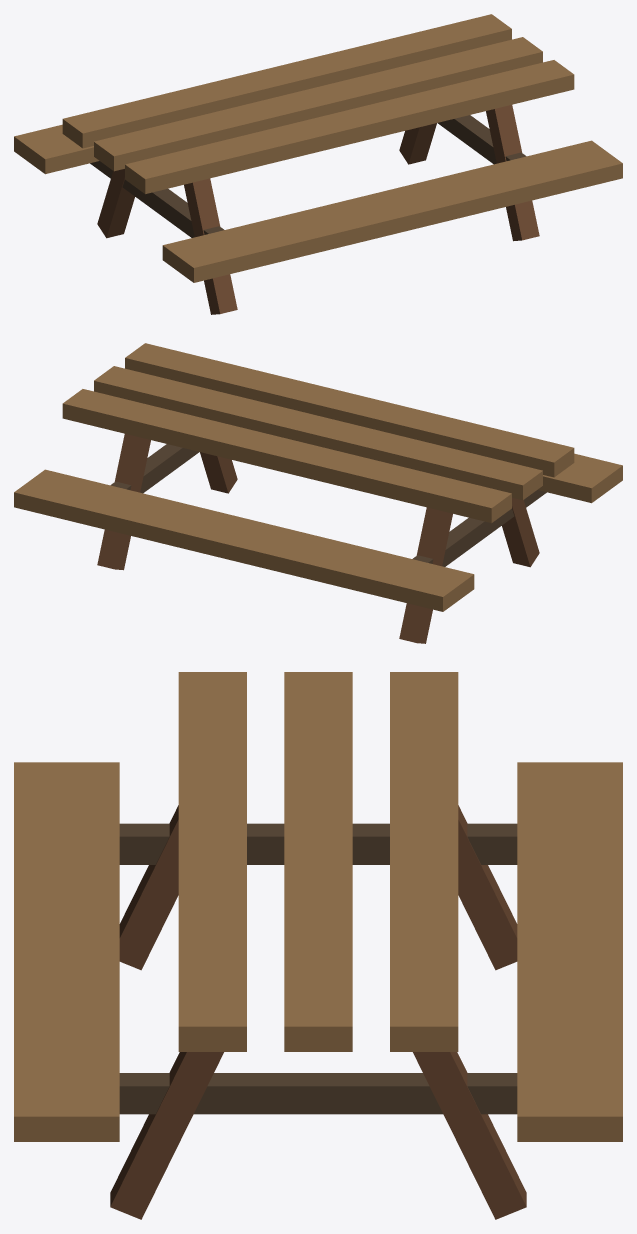
File: Prop_Daily_PicnicTable_001_LOD1.glb
3 renders of one model, top to bottom at view 1: azimuth 30°, elevation 25°; view 2: azimuth 150°, elevation 25°; view 3: azimuth 270°, elevation 25°, orthographic. The views are drawn at different scales.
Parts seen in each view (by area): view 1: Prop_Daily_PicnicTable_001_LOD1; view 2: Prop_Daily_PicnicTable_001_LOD1; view 3: Prop_Daily_PicnicTable_001_LOD1.
Part boxes in pixels (box(x1,y1,x2,y2)): Prop_Daily_PicnicTable_001_LOD1: box(14, 14, 622, 314); Prop_Daily_PicnicTable_001_LOD1: box(14, 343, 622, 643); Prop_Daily_PicnicTable_001_LOD1: box(14, 672, 622, 1219).
Size of the model in its own units: 2.7 by 0.8475 by 1.96.
